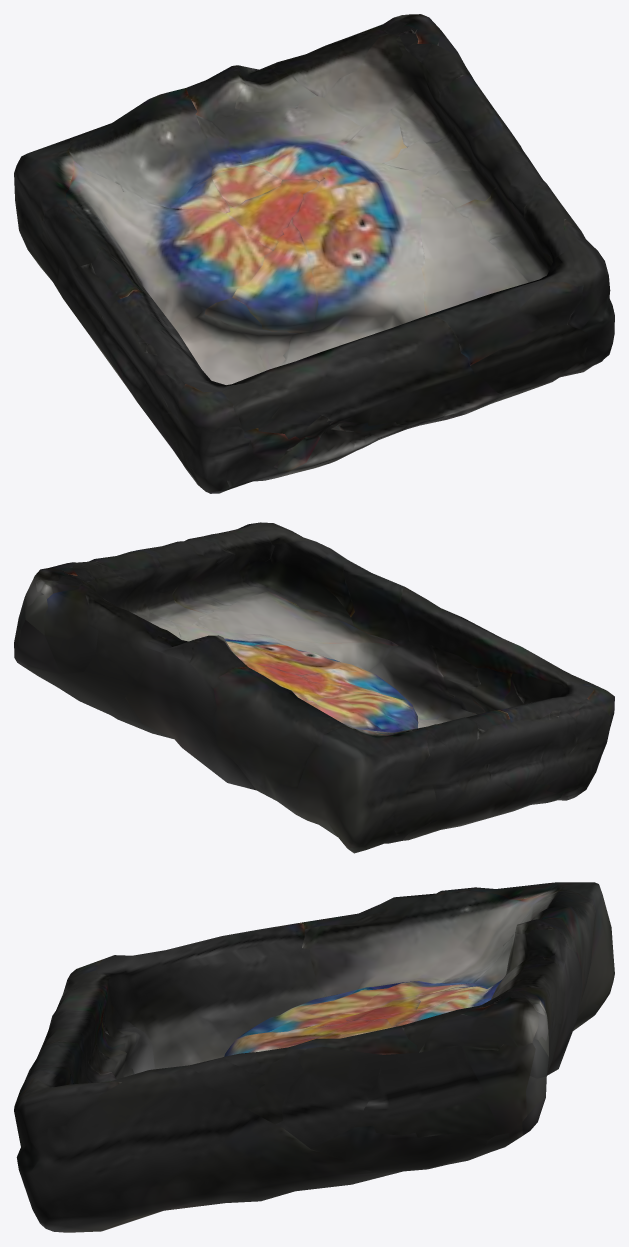
File: hall.glb
3 renders of one model, top to bottom at view 1: azimuth 30°, elevation 25°; view 2: azimuth 150°, elevation 25°; view 3: azimuth 270°, elevation 25°, orthographic. The views are drawn at different scales.
Bounding box in the file's own units: 0.6509 × 0.3735 × 0.6532.
1 material, 1 textured.
